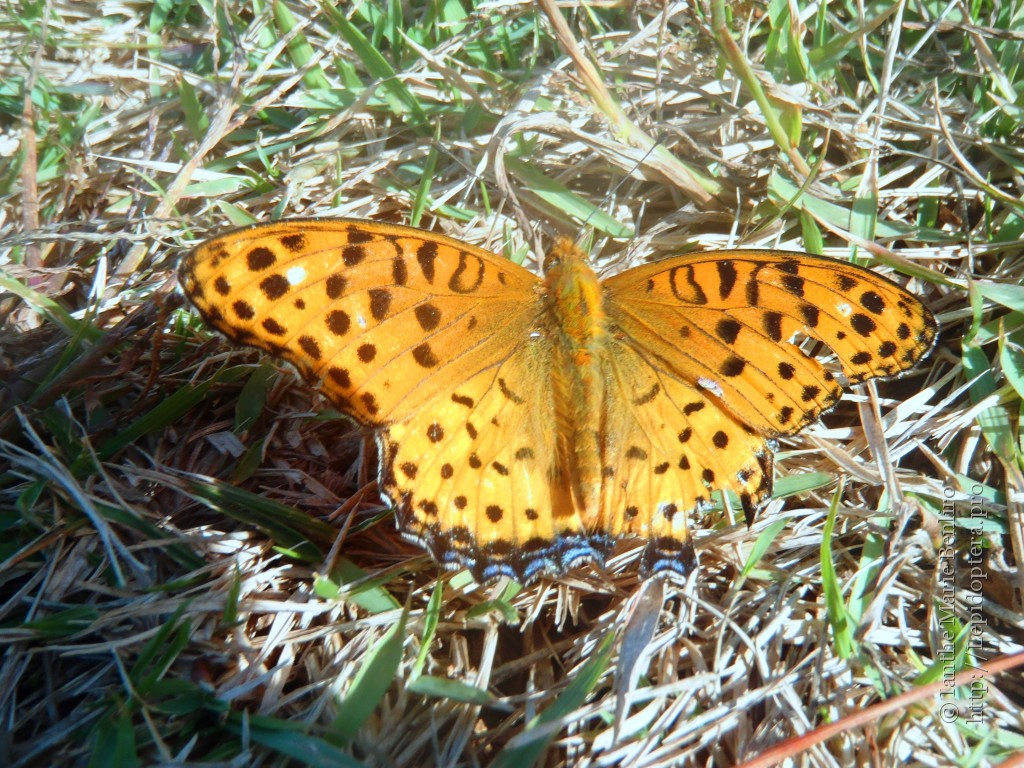Argyreus hyperbius: (165, 207, 942, 580)
butterfly: (167, 209, 944, 582)
